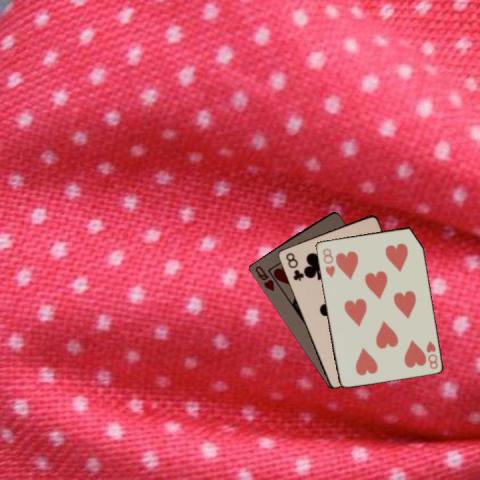8c: (283, 249, 304, 282)
8h: (319, 244, 336, 278), (423, 337, 439, 370)
Qh: (252, 262, 276, 292)
